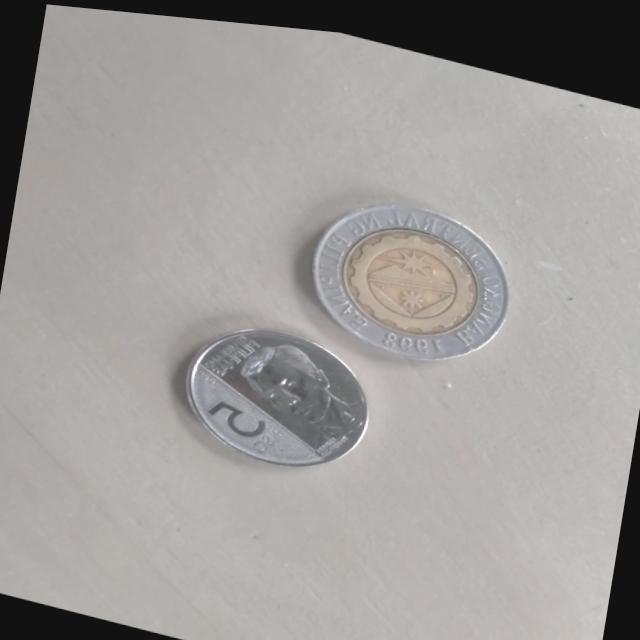10_Old_Back: (304, 170, 522, 372)
5_New_Front: (183, 377, 293, 457)
